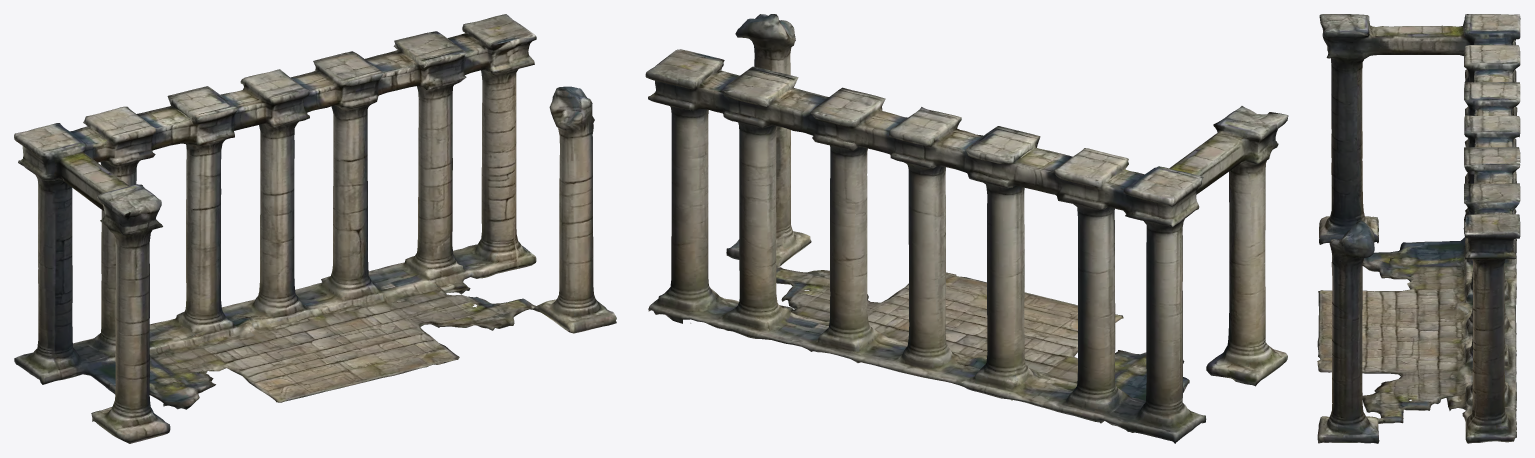
File: columns_ancient_stone_ruins.glb
3 views of the same model, side by side, from view 1: azimuth 30°, elevation 25°; view 2: azimuth 150°, elevation 25°; view 3: azimuth 270°, elevation 25° (orthographic). The views are drawn at different scales.
Parts seen in each view (by area): view 1: Object_4; view 2: Object_4; view 3: Object_4.
Boxes of the visible parts, x1,y1,x2,y2 form: Object_4: (14,14,616,443); Object_4: (645,14,1288,443); Object_4: (1317,14,1520,443).
Bounding box in the file's own units: 2 × 0.9043 × 0.7747.
1 material, 1 textured.
